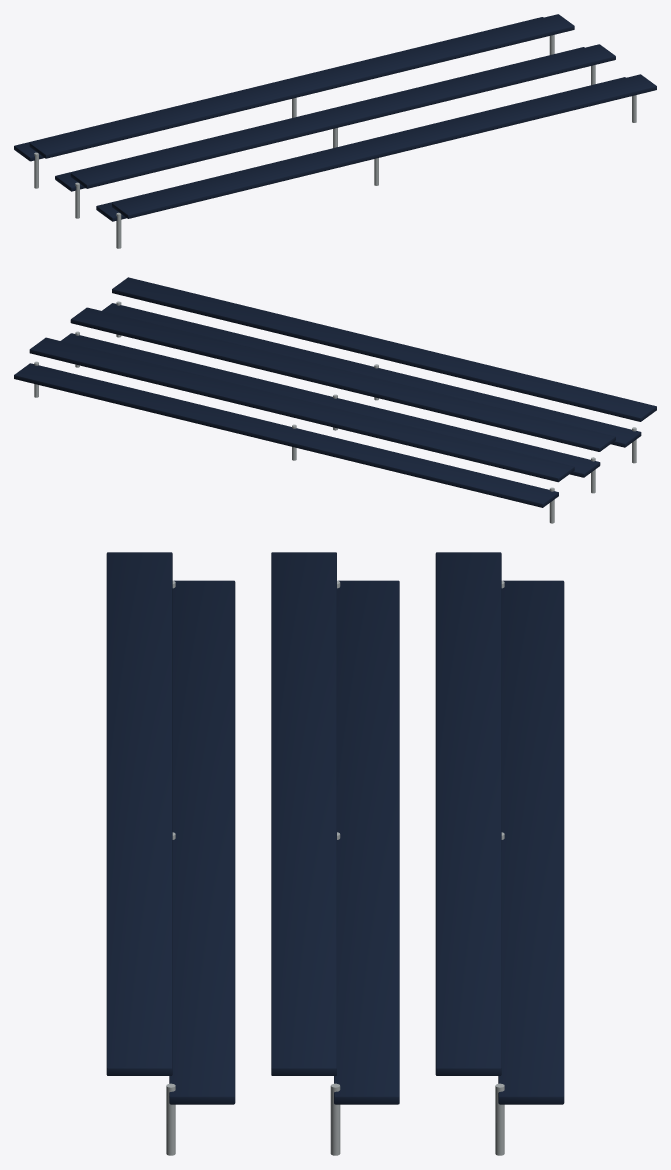
The model's file is sc-ext-pv-array.glb.
3 views of the same model, one above another, from view 1: azimuth 30°, elevation 25°; view 2: azimuth 150°, elevation 25°; view 3: azimuth 270°, elevation 25° (orthographic). The views are drawn at different scales.
Parts seen in each view (by area): view 1: sc-ext-pv-array; view 2: sc-ext-pv-array; view 3: sc-ext-pv-array.
Boxes of the visible parts, box(x1,y1,x2,y2) form: sc-ext-pv-array: box(14, 14, 656, 248); sc-ext-pv-array: box(14, 277, 656, 523); sc-ext-pv-array: box(106, 552, 564, 1155).
Bounding box in the file's own units: 7.8 × 0.65 × 2.92.
